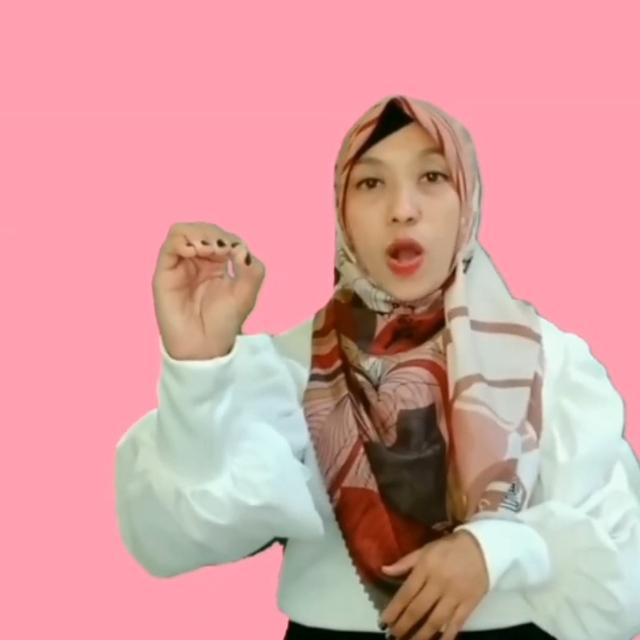O: (148, 218, 274, 342)
